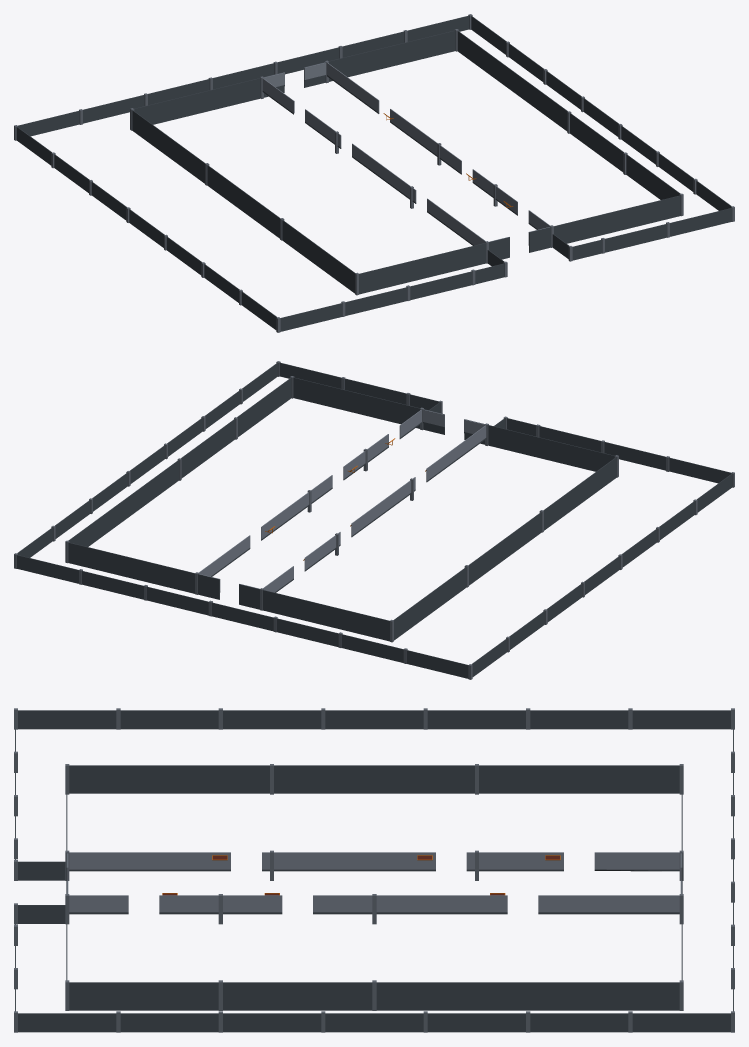
Rendered from 1_WallsSigns.fbx.
The picture shows the model from 3 angles, top to bottom: view 1: azimuth 30°, elevation 25°; view 2: azimuth 150°, elevation 25°; view 3: azimuth 270°, elevation 25°; orthographic projection. The views are drawn at different scales.
Parts seen in each view (by area): view 1: 0_Boundaries, 1_HallwayInner, 0_Columns; view 2: 0_Boundaries, 1_HallwayInner, 0_Columns; view 3: 0_Boundaries, 1_HallwayInner, 0_Columns.
Part boxes in pixels (x1,y1,x2,y2): 0_Boundaries: (16, 15, 731, 331); 1_HallwayInner: (262, 62, 549, 245); 0_Columns: (14, 14, 734, 332); 0_Boundaries: (17, 362, 732, 678); 1_HallwayInner: (199, 409, 486, 592); 0_Columns: (14, 361, 734, 679); 0_Boundaries: (15, 710, 733, 1032); 1_HallwayInner: (67, 852, 681, 914); 0_Columns: (14, 708, 734, 1032).
Size of the model in its own units: 7040 by 7040 by 310.
